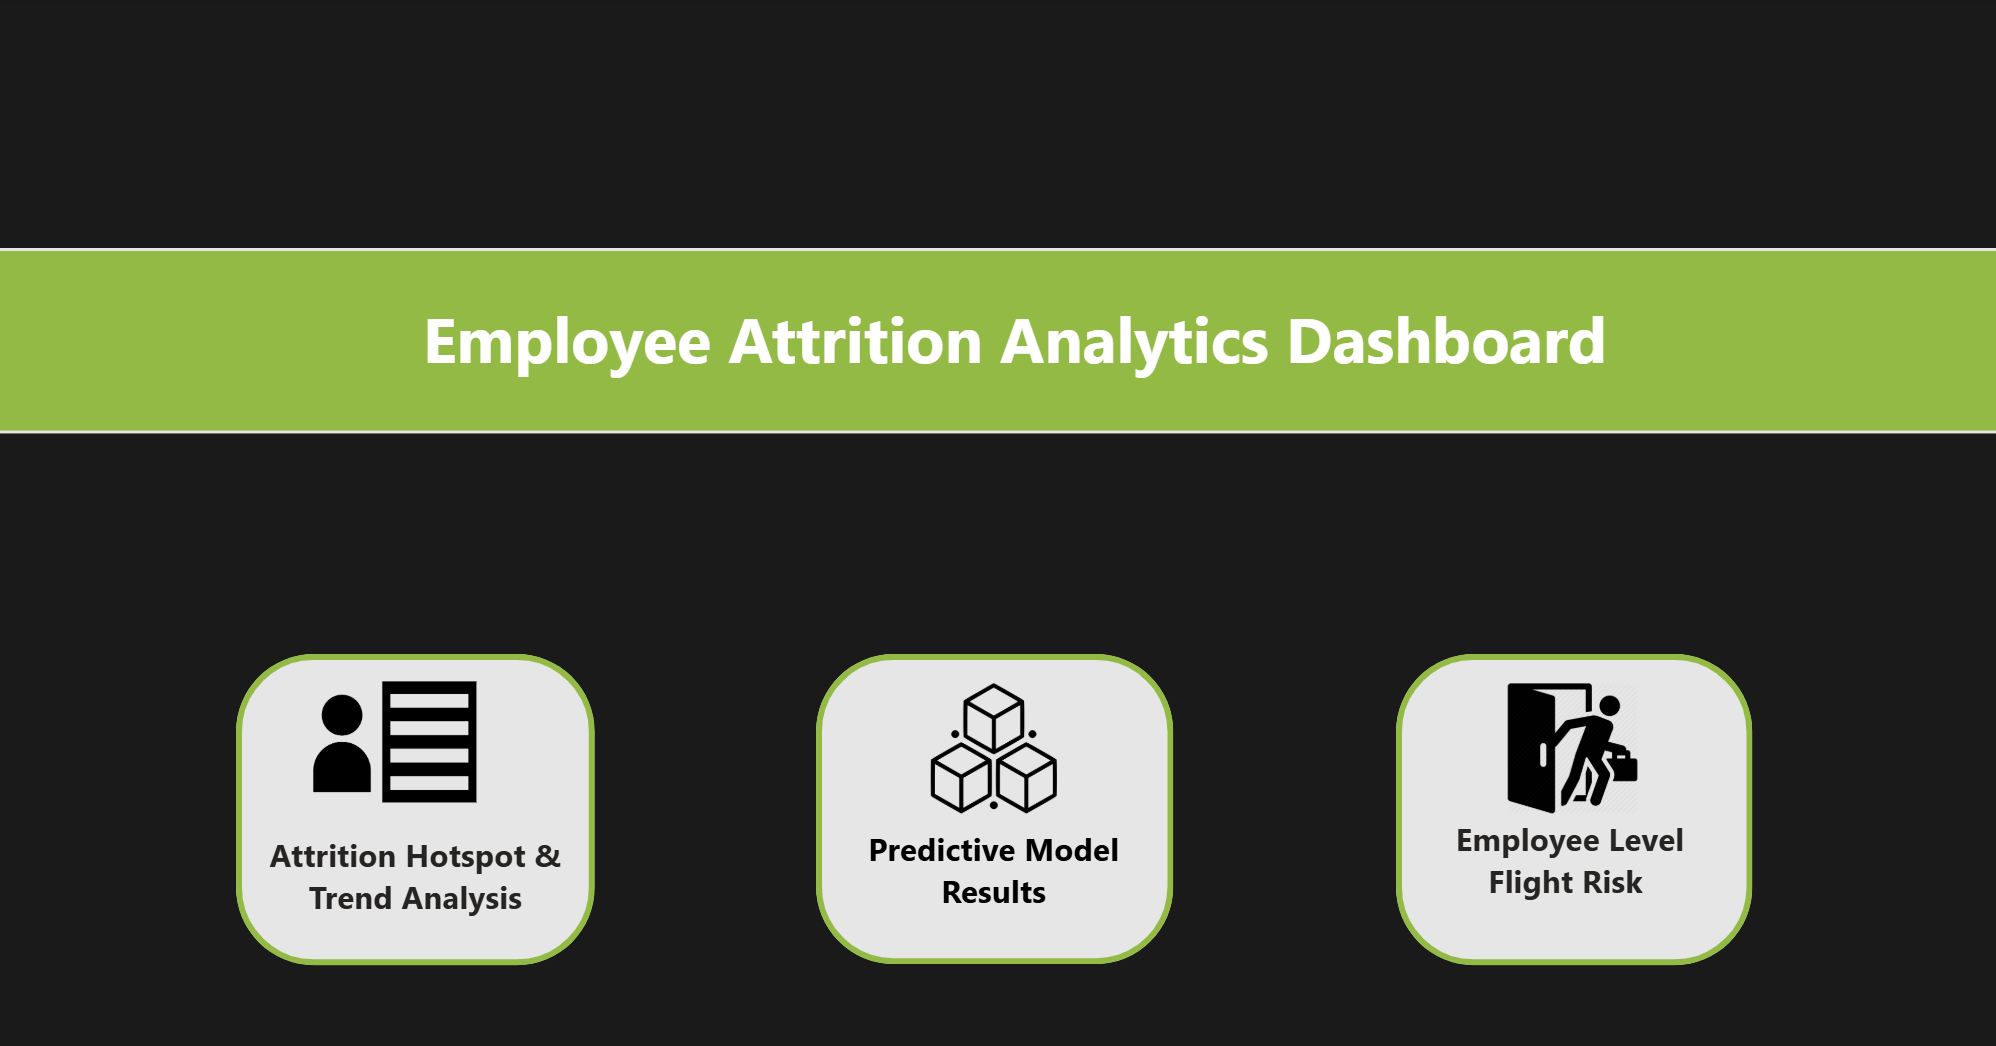

The page's visual inventory and layout, read from the dashboard file:
{"tool":"powerbi","page":{"name":"Home","canvas":[1360,720],"ordinal":0},"visuals":[{"type":"shape","box":[0,170.8,1360,125.7],"z":1000},{"type":"textbox","box":[207.3,197.6,968.3,78],"z":2000},{"type":"shape","box":[164.1,445.6,242.9,210.8],"z":3000},{"type":"shape","box":[556.7,445.6,242,210],"z":6000},{"type":"shape","box":[949.2,445.6,241.3,210.8],"z":7000},{"type":"image","box":[206.9,459.7,128.1,91.9],"z":8000},{"type":"textbox","box":[164.2,561.5,243,67.3],"z":9000},{"type":"textbox","box":[576,558.3,202.7,82.1],"z":12000},{"type":"textbox","box":[960.5,551.8,214,77.2],"z":13000},{"type":"image","box":[601.7,460.1,151.2,98.1],"z":15000},{"type":"image","box":[976.6,460.1,185,98],"z":16000}]}

Visuals, with their boxes in screenshot pixels (x1, y1, x2, y2), scaled from the page's 1360x720 canvas onto the 1996x1046 screenshot:
shape: locate(0, 248, 1995, 431)
textbox: locate(304, 287, 1725, 400)
shape: locate(241, 647, 597, 954)
shape: locate(817, 647, 1172, 952)
shape: locate(1393, 647, 1747, 954)
image: locate(304, 668, 492, 801)
textbox: locate(241, 816, 598, 914)
textbox: locate(845, 811, 1143, 930)
textbox: locate(1410, 802, 1724, 914)
image: locate(883, 668, 1105, 811)
image: locate(1433, 668, 1705, 811)
